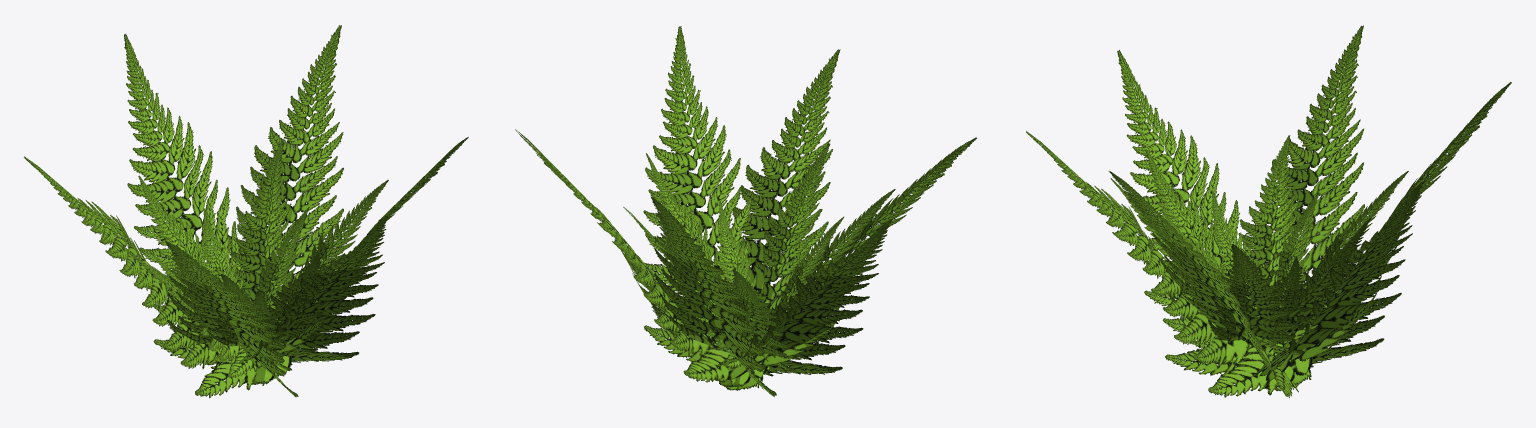
The model's file is OrmBunkeShape.dae.
The picture shows the model from 3 angles, left to right: view 1: azimuth 30°, elevation 25°; view 2: azimuth 150°, elevation 25°; view 3: azimuth 270°, elevation 25°; orthographic projection. The views are drawn at different scales.
Visible parts, largest first — view 1: OrmBunke; view 2: OrmBunke; view 3: OrmBunke.
Part boxes in pixels (<box>): OrmBunke: <box>24,25,468,398</box>; OrmBunke: <box>515,26,976,396</box>; OrmBunke: <box>1026,25,1511,397</box>.
Bounding box in the file's own units: 2.17 × 1.68 × 2.44.
